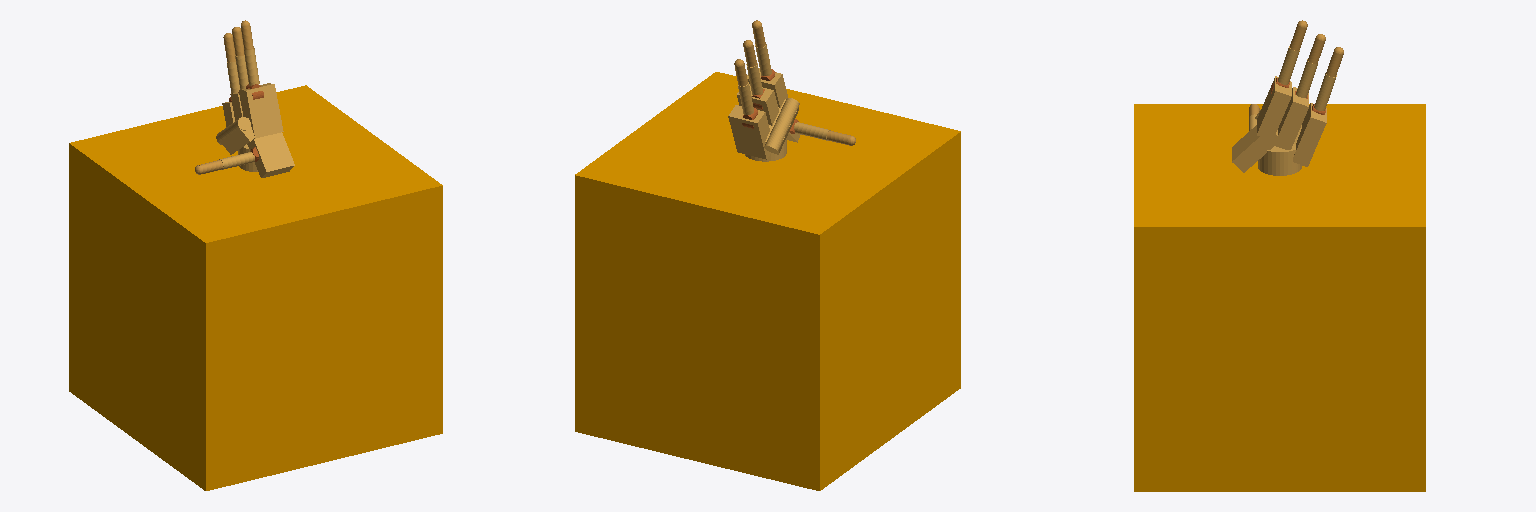
--- Facts derived from the render (not from the file) ---
The picture shows the robot from 3 angles, left to right: view 1: azimuth 30°, elevation 25°; view 2: azimuth 150°, elevation 25°; view 3: azimuth 270°, elevation 25°; orthographic projection.
Model humanoid with 34 links and 33 joints (12 revolute, 21 fixed), rooted at base, posed every joint at zero.
Links seen in each view (by area): view 1: base, right_palm; view 2: base, right_palm; view 3: base, right_palm.
Link boxes in pixels (left/top/right/bottom): base: left=69, top=85, right=442, bottom=490; right_palm: left=216, top=83, right=294, bottom=177; base: left=575, top=72, right=960, bottom=490; right_palm: left=728, top=68, right=800, bottom=161; base: left=1134, top=104, right=1425, bottom=491; right_palm: left=1232, top=76, right=1326, bottom=175.
Bounding box of the posed robot: 0.5 × 0.5 × 0.7732 m (x, y, z).
Geometry: primitives only (box / cylinder / sphere), no mesh files.

The robot description file, URDF, robot "humanoid":
<?xml version="1.0" ?>
<!-- =================================================================================== -->
<!-- |    This document was autogenerated by xacro from /tmp/buildd/sandia-hand-5.1.14/ros/sandia_hand_description/robots/sandia_hand_right_on_box.urdf.xacro | -->
<!-- |    EDITING THIS FILE BY HAND IS NOT RECOMMENDED                                 | -->
<!-- =================================================================================== -->
<robot name="humanoid" xmlns:controller="http://playerstage.sourceforge.net/gazebo/xmlschema/#controller" xmlns:interface="http://playerstage.sourceforge.net/gazebo/xmlschema/#interface" xmlns:sensor="http://playerstage.sourceforge.net/gazebo/xmlschema/#sensor" xmlns:xacro="http://www.ros.org/wiki/xacro">
  <!-- Commenting out urdf with meshes, using simple collision shapes instead -->
  <!--<include filename="$(find sandia_hand_description)/urdf/sandia_hand.urdf.xacro" />-->
  <link name="base">
    <inertial>
      <mass value="0.1"/>
      <origin rpy="0 0 0" xyz="0 0 0.25"/>
      <inertia ixx="0.01" ixy="0" ixz="0" iyy="0.01" iyz="0" izz="0.01"/>
    </inertial>
    <visual>
      <origin rpy="0 0 0" xyz="0 0 0.25"/>
      <geometry>
        <box size="0.5 0.5 0.5"/>
      </geometry>
    </visual>
    <collision>
      <origin rpy="0 0 0" xyz="0 0 0.25"/>
      <geometry>
        <box size="0.5 0.5 0.5"/>
      </geometry>
    </collision>
  </link>
  <link name="right_palm">
    <origin rpy="0 0 0" xyz="0 0 0"/>
    <inertial>
      <mass value="1.303"/>
      <origin xyz="0 0 0"/>
      <!-- solid sphere with 5cm radius -->
      <inertia ixx="0.001303" ixy="0" ixz="0" iyy="0.001303" iyz="0" izz="0.001303"/>
    </inertial>
    <!-- begin simple shape approximation of palm -->
    <collision group="default">
      <origin rpy="0 1.57079632679 -0.9" xyz="0.069 0.016 0.038"/>
      <geometry>
        <cylinder length="0.100" radius="0.013"/>
      </geometry>
    </collision>
    <collision group="other">
      <origin rpy="0.41 0 -0.9" xyz="0.064 0.008 0.021"/>
      <geometry>
        <box size="0.09 .035 .05"/>
      </geometry>
    </collision>
    <collision group="other">
      <origin rpy="0 1.57079632679 0" xyz="0.02 0 -0.005"/>
      <geometry>
        <cylinder length="0.05" radius="0.038"/>
      </geometry>
    </collision>
    <collision group="other">
      <origin rpy="0 0 0.37" xyz="0.11 -0.01 -0.005"/>
      <geometry>
        <box size="0.09 .03 .06"/>
      </geometry>
    </collision>
    <collision group="other">
      <origin rpy="0 0 0.37" xyz="0.09 0.02 -0.005"/>
      <geometry>
        <box size="0.09 .03 .06"/>
      </geometry>
    </collision>
    <collision group="other">
      <origin rpy="0 0 0.37" xyz="0.060 0.05 -0.005"/>
      <geometry>
        <box size="0.09 .03 .06"/>
      </geometry>
    </collision>
    <collision group="other">
      <origin rpy="0 0 0.79" xyz="0.044 -0.04 -0.005"/>
      <geometry>
        <box size="0.09 .03 .06"/>
      </geometry>
    </collision>
    <!--   end simple shape approximation of palm -->
    <!-- begin visual shape approximation of palm -->
    <visual>
      <origin rpy="0 1.57079632679 -0.9" xyz="0.069 0.016 0.038"/>
      <geometry>
        <cylinder length="0.100" radius="0.013"/>
      </geometry>
      <material name="right_sandia_hand_skin">
        <color rgba="0.835 0.655 0.345 1.0"/>
      </material>
    </visual>
    <visual>
      <origin rpy="0.41 0 -0.9" xyz="0.064 0.008 0.021"/>
      <geometry>
        <box size="0.09 .035 .05"/>
      </geometry>
      <material name="right_sandia_hand_skin">
        <color rgba="0.835 0.655 0.345 1.0"/>
      </material>
    </visual>
    <visual>
      <origin rpy="0 1.57079632679 0" xyz="0.02 0 -0.005"/>
      <geometry>
        <cylinder length="0.05" radius="0.038"/>
      </geometry>
      <material name="right_sandia_hand_skin">
        <color rgba="0.835 0.655 0.345 1.0"/>
      </material>
    </visual>
    <visual>
      <origin rpy="0 0 0.37" xyz="0.11 -0.01 -0.005"/>
      <geometry>
        <box size="0.09 .03 .06"/>
      </geometry>
      <material name="right_sandia_hand_skin">
        <color rgba="0.835 0.655 0.345 1.0"/>
      </material>
    </visual>
    <visual>
      <origin rpy="0 0 0.37" xyz="0.09 0.02 -0.005"/>
      <geometry>
        <box size="0.09 .03 .06"/>
      </geometry>
      <material name="right_sandia_hand_skin">
        <color rgba="0.835 0.655 0.345 1.0"/>
      </material>
    </visual>
    <visual>
      <origin rpy="0 0 0.37" xyz="0.060 0.05 -0.005"/>
      <geometry>
        <box size="0.09 .03 .06"/>
      </geometry>
      <material name="right_sandia_hand_skin">
        <color rgba="0.835 0.655 0.345 1.0"/>
      </material>
    </visual>
    <visual>
      <origin rpy="0 0 0.79" xyz="0.044 -0.04 -0.005"/>
      <geometry>
        <box size="0.09 .03 .06"/>
      </geometry>
      <material name="right_sandia_hand_skin">
        <color rgba="0.835 0.655 0.345 1.0"/>
      </material>
    </visual>
    <!--   end visual shape approximation of palm -->
    <!-- begin collision mesh of f2 ->
      <collision group="default">
        <origin xyz="0 0 0" rpy="0 0 0"/>
        <geometry>
          <mesh filename="package://sandia_hand_description/meshes/palm.stl"/>
        </geometry>
      </collision>
      <!-   end collision mesh of f2 -->
    <!-- begin visual mesh of f2    ->
      <visual>
        <origin xyz="0 0 0" rpy="0 0 0"/>
        <geometry>
          <mesh filename="package://sandia_hand_description/meshes/palm.stl"/>
        </geometry>
        <material name="${side}_sandia_hand_skin">
          <color rgba="0.835 0.655 0.345 1.0"/>
        </material>
      </visual>
      <!-   end visual mesh of f2 -->
  </link>
  <joint name="right_sandia_hand_joint" type="fixed">
    <parent link="base"/>
    <child link="right_palm"/>
    <origin rpy="0 -1.57079 0" xyz="0 0 0.5"/>
  </joint>
  <link name="right_f0_base">
    <origin rpy="0 0 0" xyz="0 0 0"/>
    <inertial>
      <!-- total mass is 2.303 kg, palm is about 1.303 kg, distribute the rest into _base -->
      <mass value="0.250"/>
      <!-- (2.303 - 1.303) / 4 -->
      <origin xyz="0 0 0"/>
      <!-- model as sphere with radius of 1cm -->
      <inertia ixx="0.00001" ixy="0" ixz="0" iyy="0.00001" iyz="0" izz="0.00001"/>
    </inertial>
  </link>
  <link name="right_f0_fixed_accel">
    <origin rpy="0 0 0" xyz="0 0 0"/>
    <inertial>
      <mass value="0.01"/>
      <origin xyz="0 0 0"/>
      <inertia ixx="0.000001" ixy="0" ixz="0" iyy="0.000001" iyz="0" izz="0.000001"/>
    </inertial>
  </link>
  <link name="right_f0_0">
    <origin rpy="0 0 0" xyz="0 0 0"/>
    <inertial>
      <mass value="0.106"/>
      <!-- F1 -->
      <origin xyz="0 0 0"/>
      <!-- solid cylinder -->
      <inertia ixx="0.000011925" ixy="0" ixz="0" iyy="0.00011505" iyz="0" izz="0.00011505"/>
    </inertial>
    <!-- begin simple shape approximation of f0 -->
    <collision group="default">
      <origin rpy="0 0 0" xyz="0 0 0.003"/>
      <geometry>
        <cylinder length="0.023" radius="0.015"/>
      </geometry>
    </collision>
    <collision group="other">
      <origin rpy="1.57079632679 0 0" xyz="0.011 0 0.003"/>
      <geometry>
        <cylinder length="0.023" radius="0.01"/>
      </geometry>
    </collision>
    <!--   end simple shape approximation of f0 -->
    <!-- begin visual shape approximation of f0 -->
    <visual>
      <origin rpy="0 0 0" xyz="0 0 0.003"/>
      <geometry>
        <cylinder length="0.023" radius="0.015"/>
      </geometry>
      <material name="right_sandia_hand_skin_suntan">
        <color rgba="0.7 0.4 0.2 1.0"/>
      </material>
    </visual>
    <visual>
      <origin rpy="1.57079632679 0 0" xyz="0.011 0 0.003"/>
      <geometry>
        <cylinder length="0.023" radius="0.01"/>
      </geometry>
      <material name="right_sandia_hand_skin_suntan">
        <color rgba="0.7 0.4 0.2 1.0"/>
      </material>
    </visual>
    <!--   end visual shape approximation of f0 -->
    <!-- begin collision mesh of f0 ->
      <collision group="default">
        <origin xyz="0 0 0" rpy="0 0 0"/>
        <geometry>
          <mesh filename="package://sandia_hand_description/meshes/f0.stl"/>
        </geometry>
      </collision>
      <!-   end collision mesh of f0 -->
    <!-- begin visual mesh of f0 ->
      <visual>
        <origin xyz="0 0 0" rpy="0 0 0"/>
        <geometry>
          <mesh filename="package://sandia_hand_description/meshes/f0.stl"/>
        </geometry>
        <material name="${side}_sandia_hand_skin_suntan">
          <color rgba="0.7 0.4 0.2 1.0"/>
        </material>
      </visual>
      <!-   end visual mesh of f0 -->
  </link>
  <link name="right_f0_1">
    <origin rpy="0 0 0" xyz="0 0 0"/>
    <inertial>
      <mass value="0.033"/>
      <!-- F2 -->
      <origin xyz="0 0 0"/>
      <!-- solid cylinder -->
      <inertia ixx="0.00000165" ixy="0" ixz="0" iyy="0.00001316975" iyz="0" izz="0.00001316975"/>
    </inertial>
    <!-- begin simple shape approximation of f1 -->
    <collision group="default">
      <origin rpy="0 1.57079632679 0" xyz="0.024 0 0"/>
      <geometry>
        <cylinder length="0.067" radius="0.01"/>
      </geometry>
    </collision>
    <!--   end simple shape approximation of f1 -->
    <!-- begin visual shape approximation of f1 -->
    <visual>
      <origin rpy="0 1.57079632679 0" xyz="0.024 0 0"/>
      <geometry>
        <cylinder length="0.067" radius="0.01"/>
      </geometry>
      <material name="right_sandia_hand_skin">
        <color rgba="0.835 0.655 0.345 1.0"/>
      </material>
    </visual>
    <!--   end visual shape approximation of f1 -->
    <!-- begin collision mesh of f1 ->
      <collision group="default">
        <origin xyz="0 0 0" rpy="0 0 0"/>
        <geometry>
          <mesh filename="package://sandia_hand_description/meshes/f1.stl"/>
        </geometry>
      </collision>
      <!-   end collision mesh of f1 -->
    <!-- begin visual mesh of f1 ->
      <visual>
        <origin xyz="0 0 0" rpy="0 0 0"/>
        <geometry>
          <mesh filename="package://sandia_hand_description/meshes/f1.stl"/>
        </geometry>
        <material name="${side}_sandia_hand_skin">
          <color rgba="0.835 0.655 0.345 1.0"/>
        </material>
      </visual>
      <!-   end visual mesh of f1 -->
  </link>
  <link name="right_f0_1_accel">
    <origin rpy="0 0 0" xyz="0 0 0"/>
    <inertial>
      <mass value="0.01"/>
      <origin xyz="0 0 0"/>
      <inertia ixx="0.000001" ixy="0" ixz="0" iyy="0.000001" iyz="0" izz="0.000001"/>
    </inertial>
  </link>
  <link name="right_f0_2">
    <origin rpy="0 0 0" xyz="0 0 0"/>
    <inertial>
      <mass value="0.033"/>
      <!-- F3 -->
      <origin xyz="0 0 0"/>
      <!-- solid cylinder -->
      <inertia ixx="0.0000013365" ixy="0" ixz="0" iyy="0.000009603" iyz="0" izz="0.000009603"/>
    </inertial>
    <!-- begin simple shape approximation of f2 -->
    <collision group="default">
      <origin rpy="0 1.57079632679 0" xyz="0.024 0 0"/>
      <geometry>
        <cylinder length="0.057" radius="0.009"/>
      </geometry>
    </collision>
    <collision group="other">
      <origin rpy="0 0 0" xyz="0.052 0 0"/>
      <geometry>
        <sphere radius="0.009"/>
      </geometry>
    </collision>
    <!--   end simple shape approximation of f2 -->
    <!-- begin visual shape approximation of f2 -->
    <visual>
      <origin rpy="0 1.57079632679 0" xyz="0.024 0 0"/>
      <geometry>
        <cylinder length="0.057" radius="0.009"/>
      </geometry>
      <material name="right_sandia_hand_skin_suntan">
        <color rgba="0.8 0.6 0.3 1.0"/>
      </material>
    </visual>
    <visual>
      <origin rpy="0 0 0" xyz="0.052 0 0"/>
      <geometry>
        <sphere radius="0.009"/>
      </geometry>
      <material name="right_sandia_hand_skin_suntan">
        <color rgba="0.8 0.6 0.3 1.0"/>
      </material>
    </visual>
    <!-- begin collision mesh of f2    ->
      <collision group="default">
        <origin xyz="0 0 0" rpy="0 0 0"/>
        <geometry>
          <mesh filename="package://sandia_hand_description/meshes/f2.stl"/>
        </geometry>
      </collision>
      <!-   end collision mesh of f2 -->
    <!-- begin visual mesh of f2    ->
      <visual>
        <origin xyz="0 0 0" rpy="0 0 0"/>
        <geometry>
          <mesh filename="package://sandia_hand_description/meshes/f2.stl"/>
        </geometry>
        <material name="${side}_sandia_hand_skin_suntan">
          <color rgba="0.8 0.6 0.3 1.0"/>
        </material>
      </visual>
      <!-   end visual mesh of f2 -->
  </link>
  <link name="right_f0_2_accel">
    <origin rpy="0 0 0" xyz="0 0 0"/>
    <inertial>
      <mass value="0.01"/>
      <origin xyz="0 0 0"/>
      <inertia ixx="0.000001" ixy="0" ixz="0" iyy="0.000001" iyz="0" izz="0.000001"/>
    </inertial>
  </link>
  <joint name="right_f0_base" type="fixed">
    <parent link="right_palm"/>
    <child link="right_f0_base"/>
    <origin rpy="0 0 0.3" xyz="0.14 0.0 0"/>
  </joint>
  <joint name="right_f0_j0" type="revolute">
    <axis xyz="0 0 1"/>
    <parent link="right_f0_base"/>
    <child link="right_f0_0"/>
    <limit effort="11" lower="-1.57079632679" upper="1.57079632679" velocity="-1"/>
    <safety_controller k_position="1000.0" k_velocity="1000.0" soft_lower_limit="-11.57079" soft_upper_limit="11.57079"/>
    <dynamics damping="1.0"/>
    <origin rpy="0 0 0" xyz="0 0 0"/>
  </joint>
  <joint name="right_f0_j1" type="revolute">
    <axis xyz="0 0 1"/>
    <parent link="right_f0_0"/>
    <child link="right_f0_1"/>
    <limit effort="28" lower="-1.57079632679" upper="1.57079632679" velocity="-1"/>
    <safety_controller k_position="1000.0" k_velocity="1000.0" soft_lower_limit="-11.57079" soft_upper_limit="11.57079"/>
    <dynamics damping="1.0"/>
    <origin rpy="1.57079632679 0 0" xyz="0.028 0 0"/>
  </joint>
  <joint name="right_f0_j2" type="revolute">
    <axis xyz="0 0 1"/>
    <parent link="right_f0_1"/>
    <child link="right_f0_2"/>
    <origin rpy="0 0 0" xyz="0.05 0 0"/>
    <safety_controller k_position="1000.0" k_velocity="1000.0" soft_lower_limit="-11.57079" soft_upper_limit="11.57079"/>
    <dynamics damping="1.0"/>
    <limit effort="28" lower="-1.57079632679" upper="1.57079632679" velocity="-1"/>
  </joint>
  <joint name="right_f0_fixed_accel" type="fixed">
    <parent link="right_f0_base"/>
    <child link="right_f0_fixed_accel"/>
    <origin rpy="0 0 0" xyz="-0.05 0 0"/>
  </joint>
  <joint name="right_f0_1_accel" type="fixed">
    <parent link="right_f0_1"/>
    <child link="right_f0_1_accel"/>
    <origin rpy="-1.57079632679 0 0" xyz="0.03 0 0"/>
  </joint>
  <joint name="right_f0_2_accel" type="fixed">
    <parent link="right_f0_2"/>
    <child link="right_f0_2_accel"/>
    <origin rpy="-1.57079632679 0 0" xyz="0.04 0 0"/>
  </joint>
  <transmission name="right_f0_j0" type="pr2_mechanism_model/SimpleTransmission">
    <joint name="right_f0_j0"/>
    <actuator name="right_f0_j0_motor"/>
    <mechanicalReduction>1</mechanicalReduction>
  </transmission>
  <transmission name="right_f0_j1" type="pr2_mechanism_model/SimpleTransmission">
    <joint name="right_f0_j1"/>
    <actuator name="right_f0_j1_motor"/>
    <mechanicalReduction>1</mechanicalReduction>
  </transmission>
  <transmission name="right_f0_j2" type="pr2_mechanism_model/SimpleTransmission">
    <joint name="right_f0_j2"/>
    <actuator name="right_f0_j2_motor"/>
    <mechanicalReduction>1</mechanicalReduction>
  </transmission>
  <gazebo reference="right_f0_base">
    <mu1>0.9</mu1>
    <mu2>0.9</mu2>
    <kp>1000000.0</kp>
    <kd>1.0</kd>
    <maxVel>0.1</maxVel>
    <minDepth>0.001</minDepth>
    <material>Gazebo/FlatBlack</material>
  </gazebo>
  <gazebo reference="right_f0_0">
    <mu1>0.9</mu1>
    <mu2>0.9</mu2>
    <kp>1000000.0</kp>
    <kd>1.0</kd>
    <maxVel>0.1</maxVel>
    <minDepth>0.003</minDepth>
    <maxContacts>1</maxContacts>
    <material>Gazebo/FlatBlack</material>
  </gazebo>
  <gazebo reference="right_f0_1">
    <mu1>0.9</mu1>
    <mu2>0.9</mu2>
    <kp>1000000.0</kp>
    <kd>1.0</kd>
    <maxVel>0.1</maxVel>
    <minDepth>0.003</minDepth>
    <maxContacts>1</maxContacts>
    <material>Gazebo/FlatBlack</material>
  </gazebo>
  <gazebo reference="right_f0_2">
    <mu1>0.9</mu1>
    <mu2>0.9</mu2>
    <kp>1000000.0</kp>
    <kd>1.0</kd>
    <maxVel>0.1</maxVel>
    <minDepth>0.003</minDepth>
    <maxContacts>1</maxContacts>
    <material>Gazebo/FlatBlack</material>
  </gazebo>
  <gazebo reference="right_f0_j0">
    <cfmDamping>1</cfmDamping>
  </gazebo>
  <gazebo reference="right_f0_j1">
    <cfmDamping>1</cfmDamping>
  </gazebo>
  <gazebo reference="right_f0_j2">
    <cfmDamping>1</cfmDamping>
  </gazebo>
  <link name="right_f1_base">
    <origin rpy="0 0 0" xyz="0 0 0"/>
    <inertial>
      <!-- total mass is 2.303 kg, palm is about 1.303 kg, distribute the rest into _base -->
      <mass value="0.250"/>
      <!-- (2.303 - 1.303) / 4 -->
      <origin xyz="0 0 0"/>
      <!-- model as sphere with radius of 1cm -->
      <inertia ixx="0.00001" ixy="0" ixz="0" iyy="0.00001" iyz="0" izz="0.00001"/>
    </inertial>
  </link>
  <link name="right_f1_fixed_accel">
    <origin rpy="0 0 0" xyz="0 0 0"/>
    <inertial>
      <mass value="0.01"/>
      <origin xyz="0 0 0"/>
      <inertia ixx="0.000001" ixy="0" ixz="0" iyy="0.000001" iyz="0" izz="0.000001"/>
    </inertial>
  </link>
  <link name="right_f1_0">
    <origin rpy="0 0 0" xyz="0 0 0"/>
    <inertial>
      <mass value="0.106"/>
      <!-- F1 -->
      <origin xyz="0 0 0"/>
      <!-- solid cylinder -->
      <inertia ixx="0.000011925" ixy="0" ixz="0" iyy="0.00011505" iyz="0" izz="0.00011505"/>
    </inertial>
    <!-- begin simple shape approximation of f0 -->
    <collision group="default">
      <origin rpy="0 0 0" xyz="0 0 0.003"/>
      <geometry>
        <cylinder length="0.023" radius="0.015"/>
      </geometry>
    </collision>
    <collision group="other">
      <origin rpy="1.57079632679 0 0" xyz="0.011 0 0.003"/>
      <geometry>
        <cylinder length="0.023" radius="0.01"/>
      </geometry>
    </collision>
    <!--   end simple shape approximation of f0 -->
    <!-- begin visual shape approximation of f0 -->
    <visual>
      <origin rpy="0 0 0" xyz="0 0 0.003"/>
      <geometry>
        <cylinder length="0.023" radius="0.015"/>
      </geometry>
      <material name="right_sandia_hand_skin_suntan">
        <color rgba="0.7 0.4 0.2 1.0"/>
      </material>
    </visual>
    <visual>
      <origin rpy="1.57079632679 0 0" xyz="0.011 0 0.003"/>
      <geometry>
        <cylinder length="0.023" radius="0.01"/>
      </geometry>
      <material name="right_sandia_hand_skin_suntan">
        <color rgba="0.7 0.4 0.2 1.0"/>
      </material>
    </visual>
    <!--   end visual shape approximation of f0 -->
    <!-- begin collision mesh of f0 ->
      <collision group="default">
        <origin xyz="0 0 0" rpy="0 0 0"/>
        <geometry>
          <mesh filename="package://sandia_hand_description/meshes/f0.stl"/>
        </geometry>
      </collision>
      <!-   end collision mesh of f0 -->
    <!-- begin visual mesh of f0 ->
      <visual>
        <origin xyz="0 0 0" rpy="0 0 0"/>
        <geometry>
          <mesh filename="package://sandia_hand_description/meshes/f0.stl"/>
        </geometry>
        <material name="${side}_sandia_hand_skin_suntan">
          <color rgba="0.7 0.4 0.2 1.0"/>
        </material>
      </visual>
      <!-   end visual mesh of f0 -->
  </link>
  <link name="right_f1_1">
    <origin rpy="0 0 0" xyz="0 0 0"/>
    <inertial>
      <mass value="0.033"/>
      <!-- F2 -->
      <origin xyz="0 0 0"/>
      <!-- solid cylinder -->
      <inertia ixx="0.00000165" ixy="0" ixz="0" iyy="0.00001316975" iyz="0" izz="0.00001316975"/>
    </inertial>
    <!-- begin simple shape approximation of f1 -->
    <collision group="default">
      <origin rpy="0 1.57079632679 0" xyz="0.024 0 0"/>
      <geometry>
        <cylinder length="0.067" radius="0.01"/>
      </geometry>
    </collision>
    <!--   end simple shape approximation of f1 -->
    <!-- begin visual shape approximation of f1 -->
    <visual>
      <origin rpy="0 1.57079632679 0" xyz="0.024 0 0"/>
      <geometry>
        <cylinder length="0.067" radius="0.01"/>
      </geometry>
      <material name="right_sandia_hand_skin">
        <color rgba="0.835 0.655 0.345 1.0"/>
      </material>
    </visual>
    <!--   end visual shape approximation of f1 -->
    <!-- begin collision mesh of f1 ->
      <collision group="default">
        <origin xyz="0 0 0" rpy="0 0 0"/>
        <geometry>
          <mesh filename="package://sandia_hand_description/meshes/f1.stl"/>
        </geometry>
      </collision>
      <!-   end collision mesh of f1 -->
    <!-- begin visual mesh of f1 ->
      <visual>
        <origin xyz="0 0 0" rpy="0 0 0"/>
        <geometry>
          <mesh filename="package://sandia_hand_description/meshes/f1.stl"/>
        </geometry>
        <material name="${side}_sandia_hand_skin">
          <color rgba="0.835 0.655 0.345 1.0"/>
        </material>
      </visual>
      <!-   end visual mesh of f1 -->
  </link>
  <link name="right_f1_1_accel">
    <origin rpy="0 0 0" xyz="0 0 0"/>
    <inertial>
      <mass value="0.01"/>
      <origin xyz="0 0 0"/>
      <inertia ixx="0.000001" ixy="0" ixz="0" iyy="0.000001" iyz="0" izz="0.000001"/>
    </inertial>
  </link>
  <link name="right_f1_2">
    <origin rpy="0 0 0" xyz="0 0 0"/>
    <inertial>
      <mass value="0.033"/>
      <!-- F3 -->
      <origin xyz="0 0 0"/>
      <!-- solid cylinder -->
      <inertia ixx="0.0000013365" ixy="0" ixz="0" iyy="0.000009603" iyz="0" izz="0.000009603"/>
    </inertial>
    <!-- begin simple shape approximation of f2 -->
    <collision group="default">
      <origin rpy="0 1.57079632679 0" xyz="0.024 0 0"/>
      <geometry>
        <cylinder length="0.057" radius="0.009"/>
      </geometry>
    </collision>
    <collision group="other">
      <origin rpy="0 0 0" xyz="0.052 0 0"/>
      <geometry>
        <sphere radius="0.009"/>
      </geometry>
    </collision>
    <!--   end simple shape approximation of f2 -->
    <!-- begin visual shape approximation of f2 -->
    <visual>
      <origin rpy="0 1.57079632679 0" xyz="0.024 0 0"/>
      <geometry>
        <cylinder length="0.057" radius="0.009"/>
      </geometry>
      <material name="right_sandia_hand_skin_suntan">
        <color rgba="0.8 0.6 0.3 1.0"/>
      </material>
    </visual>
    <visual>
      <origin rpy="0 0 0" xyz="0.052 0 0"/>
      <geometry>
        <sphere radius="0.009"/>
      </geometry>
      <material name="right_sandia_hand_skin_suntan">
        <color rgba="0.8 0.6 0.3 1.0"/>
      </material>
    </visual>
    <!-- begin collision mesh of f2    ->
      <collision group="default">
        <origin xyz="0 0 0" rpy="0 0 0"/>
        <geometry>
          <mesh filename="package://sandia_hand_description/meshes/f2.stl"/>
        </geometry>
      </collision>
      <!-   end collision mesh of f2 -->
    <!-- begin visual mesh of f2    ->
      <visual>
        <origin xyz="0 0 0" rpy="0 0 0"/>
        <geometry>
          <mesh filename="package://sandia_hand_description/meshes/f2.stl"/>
        </geometry>
        <material name="${side}_sandia_hand_skin_suntan">
          <color rgba="0.8 0.6 0.3 1.0"/>
        </material>
      </visual>
      <!-   end visual mesh of f2 -->
  </link>
  <link name="right_f1_2_accel">
    <origin rpy="0 0 0" xyz="0 0 0"/>
    <inertial>
      <mass value="0.01"/>
      <origin xyz="0 0 0"/>
      <inertia ixx="0.000001" ixy="0" ixz="0" iyy="0.000001" iyz="0" izz="0.000001"/>
    </inertial>
  </link>
  <joint name="right_f1_base" type="fixed">
    <parent link="right_palm"/>
    <child link="right_f1_base"/>
    <origin rpy="0 0 0.3" xyz="0.115 0.03122 0"/>
  </joint>
  <joint name="right_f1_j0" type="revolute">
    <axis xyz="0 0 1"/>
    <parent link="right_f1_base"/>
    <child link="right_f1_0"/>
    <limit effort="11" lower="-1.57079632679" upper="1.57079632679" velocity="-1"/>
    <safety_controller k_position="1000.0" k_velocity="1000.0" soft_lower_limit="-11.57079" soft_upper_limit="11.57079"/>
    <dynamics damping="1.0"/>
    <origin rpy="0 0 0" xyz="0 0 0"/>
  </joint>
  <joint name="right_f1_j1" type="revolute">
    <axis xyz="0 0 1"/>
    <parent link="right_f1_0"/>
    <child link="right_f1_1"/>
    <limit effort="28" lower="-1.57079632679" upper="1.57079632679" velocity="-1"/>
    <safety_controller k_position="1000.0" k_velocity="1000.0" soft_lower_limit="-11.57079" soft_upper_limit="11.57079"/>
    <dynamics damping="1.0"/>
    <origin rpy="1.57079632679 0 0" xyz="0.028 0 0"/>
  </joint>
  <joint name="right_f1_j2" type="revolute">
    <axis xyz="0 0 1"/>
    <parent link="right_f1_1"/>
    <child link="right_f1_2"/>
    <origin rpy="0 0 0" xyz="0.05 0 0"/>
    <safety_controller k_position="1000.0" k_velocity="1000.0" soft_lower_limit="-11.57079" soft_upper_limit="11.57079"/>
    <dynamics damping="1.0"/>
    <limit effort="28" lower="-1.57079632679" upper="1.57079632679" velocity="-1"/>
  </joint>
  <joint name="right_f1_fixed_accel" type="fixed">
    <parent link="right_f1_base"/>
    <child link="right_f1_fixed_accel"/>
    <origin rpy="0 0 0" xyz="-0.05 0 0"/>
  </joint>
  <joint name="right_f1_1_accel" type="fixed">
    <parent link="right_f1_1"/>
    <child link="right_f1_1_accel"/>
    <origin rpy="-1.57079632679 0 0" xyz="0.03 0 0"/>
  </joint>
  <joint name="right_f1_2_accel" type="fixed">
    <parent link="right_f1_2"/>
    <child link="right_f1_2_accel"/>
    <origin rpy="-1.57079632679 0 0" xyz="0.04 0 0"/>
  </joint>
  <transmission name="right_f1_j0" type="pr2_mechanism_model/SimpleTransmission">
    <joint name="right_f1_j0"/>
    <actuator name="right_f1_j0_motor"/>
    <mechanicalReduction>1</mechanicalReduction>
  </transmission>
  <transmission name="right_f1_j1" type="pr2_mechanism_model/SimpleTransmission">
    <joint name="right_f1_j1"/>
    <actuator name="right_f1_j1_motor"/>
    <mechanicalReduction>1</mechanicalReduction>
  </transmission>
  <transmission name="right_f1_j2" type="pr2_mechanism_model/SimpleTransmission">
    <joint name="right_f1_j2"/>
    <actuator name="right_f1_j2_motor"/>
    <mechanicalReduction>1</mechanicalReduction>
  </transmission>
  <gazebo reference="right_f1_base">
    <mu1>0.9</mu1>
    <mu2>0.9</mu2>
    <kp>1000000.0</kp>
    <kd>1.0</kd>
    <maxVel>0.1</maxVel>
    <minDepth>0.001</minDepth>
    <material>Gazebo/FlatBlack</material>
  </gazebo>
  <gazebo reference="right_f1_0">
    <mu1>0.9</mu1>
    <mu2>0.9</mu2>
    <kp>1000000.0</kp>
    <kd>1.0</kd>
    <maxVel>0.1</maxVel>
    <minDepth>0.003</minDepth>
    <maxContacts>1</maxContacts>
    <material>Gazebo/FlatBlack</material>
  </gazebo>
  <gazebo reference="right_f1_1">
    <mu1>0.9</mu1>
    <mu2>0.9</mu2>
    <kp>1000000.0</kp>
    <kd>1.0</kd>
    <maxVel>0.1</maxVel>
    <minDepth>0.003</minDepth>
    <maxContacts>1</maxContacts>
    <material>Gazebo/FlatBlack</material>
  </gazebo>
  <gazebo reference="right_f1_2">
    <mu1>0.9</mu1>
    <mu2>0.9</mu2>
    <kp>1000000.0</kp>
    <kd>1.0</kd>
    <maxVel>0.1</maxVel>
    <minDepth>0.003</minDepth>
    <maxContacts>1</maxContacts>
    <material>Gazebo/FlatBlack</material>
  </gazebo>
  <gazebo reference="right_f1_j0">
    <cfmDamping>1</cfmDamping>
  </gazebo>
  <gazebo reference="right_f1_j1">
    <cfmDamping>1</cfmDamping>
  </gazebo>
  <gazebo reference="right_f1_j2">
    <cfmDamping>1</cfmDamping>
  </gazebo>
  <link name="right_f2_base">
    <origin rpy="0 0 0" xyz="0 0 0"/>
    <inertial>
      <!-- total mass is 2.303 kg, palm is about 1.303 kg, distribute the rest into _base -->
      <mass value="0.250"/>
      <!-- (2.303 - 1.303) / 4 -->
      <origin xyz="0 0 0"/>
      <!-- model as sphere with radius of 1cm -->
      <inertia ixx="0.00001" ixy="0" ixz="0" iyy="0.00001" iyz="0" izz="0.00001"/>
    </inertial>
  </link>
  <link name="right_f2_fixed_accel">
    <origin rpy="0 0 0" xyz="0 0 0"/>
    <inertial>
      <mass value="0.01"/>
      <origin xyz="0 0 0"/>
      <inertia ixx="0.000001" ixy="0" ixz="0" iyy="0.000001" iyz="0" izz="0.000001"/>
    </inertial>
  </link>
  <link name="right_f2_0">
    <origin rpy="0 0 0" xyz="0 0 0"/>
    <inertial>
      <mass value="0.106"/>
      <!-- F1 -->
      <origin xyz="0 0 0"/>
      <!-- solid cylinder -->
      <inertia ixx="0.000011925" ixy="0" ixz="0" iyy="0.00011505" iyz="0" izz="0.00011505"/>
    </inertial>
    <!-- begin simple shape approximation of f0 -->
    <collision group="default">
      <origin rpy="0 0 0" xyz="0 0 0.003"/>
      <geometry>
        <cylinder length="0.023" radius="0.015"/>
      </geometry>
    </collision>
    <collision group="other">
      <origin rpy="1.57079632679 0 0" xyz="0.011 0 0.003"/>
      <geometry>
        <cylinder length="0.023" radius="0.01"/>
      </geometry>
    </collision>
    <!--   end simple shape approximation of f0 -->
    <!-- begin visual shape approximation of f0 -->
    <visual>
      <origin rpy="0 0 0" xyz="0 0 0.003"/>
      <geometry>
        <cylinder length="0.023" radius="0.015"/>
      </geometry>
      <material name="right_sandia_hand_skin_suntan">
        <color rgba="0.7 0.4 0.2 1.0"/>
      </material>
    </visual>
    <visual>
      <origin rpy="1.57079632679 0 0" xyz="0.011 0 0.003"/>
      <geometry>
        <cylinder length="0.023" radius="0.01"/>
      </geometry>
      <material name="right_sandia_hand_skin_suntan">
        <color rgba="0.7 0.4 0.2 1.0"/>
      </material>
    </visual>
    <!--   end visual shape approximation of f0 -->
    <!-- begin collision mesh of f0 ->
      <collision group="default">
        <origin xyz="0 0 0" rpy="0 0 0"/>
        <geometry>
          <mesh filename="package://sandia_hand_description/meshes/f0.stl"/>
        </geometry>
      </collision>
      <!-   end collision mesh of f0 -->
    <!-- begin visual mesh of f0 ->
      <visual>
        <origin xyz="0 0 0" rpy="0 0 0"/>
        <geometry>
          <mesh filename="package://sandia_hand_description/meshes/f0.stl"/>
        </geometry>
        <material name="${side}_sandia_hand_skin_suntan">
          <color rgba="0.7 0.4 0.2 1.0"/>
        </material>
      </visual>
      <!-   end visual mesh of f0 -->
  </link>
  <link name="right_f2_1">
    <origin rpy="0 0 0" xyz="0 0 0"/>
    <inertial>
      <mass value="0.033"/>
      <!-- F2 -->
      <origin xyz="0 0 0"/>
      <!-- solid cylinder -->
      <inertia ixx="0.00000165" ixy="0" ixz="0" iyy="0.00001316975" iyz="0" izz="0.00001316975"/>
    </inertial>
    <!-- begin simple shape approximation of f1 -->
    <collision group="default">
      <origin rpy="0 1.57079632679 0" xyz="0.024 0 0"/>
      <geometry>
        <cylinder length="0.067" radius="0.01"/>
      </geometry>
    </collision>
    <!--   end simple shape approximation of f1 -->
    <!-- begin visual shape approximation of f1 -->
    <visual>
      <origin rpy="0 1.57079632679 0" xyz="0.024 0 0"/>
      <geometry>
        <cylinder length="0.067" radius="0.01"/>
      </geometry>
      <material name="right_sandia_hand_skin">
        <color rgba="0.835 0.655 0.345 1.0"/>
      </material>
    </visual>
    <!--   end visual shape approximation of f1 -->
    <!-- begin collision mesh of f1 ->
      <collision group="default">
        <origin xyz="0 0 0" rpy="0 0 0"/>
        <geometry>
          <mesh filename="package://sandia_hand_description/meshes/f1.stl"/>
        </geometry>
      </collision>
      <!-   end collision mesh of f1 -->
    <!-- begin visual mesh of f1 ->
      <visual>
        <origin xyz="0 0 0" rpy="0 0 0"/>
        <geometry>
          <mesh filename="package://sandia_hand_description/meshes/f1.stl"/>
        </geometry>
        <material name="${side}_sandia_hand_skin">
          <color rgba="0.835 0.655 0.345 1.0"/>
        </material>
      </visual>
      <!-   end visual mesh of f1 -->
  </link>
  <link name="right_f2_1_accel">
    <origin rpy="0 0 0" xyz="0 0 0"/>
    <inertial>
      <mass value="0.01"/>
      <origin xyz="0 0 0"/>
      <inertia ixx="0.000001" ixy="0" ixz="0" iyy="0.000001" iyz="0" izz="0.000001"/>
    </inertial>
  </link>
  <link name="right_f2_2">
    <origin rpy="0 0 0" xyz="0 0 0"/>
    <inertial>
      <mass value="0.033"/>
      <!-- F3 -->
      <origin xyz="0 0 0"/>
      <!-- solid cylinder -->
      <inertia ixx="0.0000013365" ixy="0" ixz="0" iyy="0.000009603" iyz="0" izz="0.000009603"/>
    </inertial>
    <!-- begin simple shape approximation of f2 -->
    <collision group="default">
      <origin rpy="0 1.57079632679 0" xyz="0.024 0 0"/>
      <geometry>
        <cylinder length="0.057" radius="0.009"/>
      </geometry>
    </collision>
    <collision group="other">
      <origin rpy="0 0 0" xyz="0.052 0 0"/>
      <geometry>
        <sphere radius="0.009"/>
      </geometry>
    </collision>
    <!--   end simple shape approximation of f2 -->
    <!-- begin visual shape approximation of f2 -->
    <visual>
      <origin rpy="0 1.57079632679 0" xyz="0.024 0 0"/>
      <geometry>
        <cylinder length="0.057" radius="0.009"/>
      </geometry>
      <material name="right_sandia_hand_skin_suntan">
        <color rgba="0.8 0.6 0.3 1.0"/>
      </material>
    </visual>
    <visual>
      <origin rpy="0 0 0" xyz="0.052 0 0"/>
      <geometry>
        <sphere radius="0.009"/>
      </geometry>
      <material name="right_sandia_hand_skin_suntan">
        <color rgba="0.8 0.6 0.3 1.0"/>
      </material>
    </visual>
    <!-- begin collision mesh of f2    ->
      <collision group="default">
        <origin xyz="0 0 0" rpy="0 0 0"/>
        <geometry>
          <mesh filename="package://sandia_hand_description/meshes/f2.stl"/>
        </geometry>
      </collision>
      <!-   end collision mesh of f2 -->
    <!-- begin visual mesh of f2    ->
      <visual>
        <origin xyz="0 0 0" rpy="0 0 0"/>
        <geometry>
          <mesh filename="package://sandia_hand_description/meshes/f2.stl"/>
        </geometry>
        <material name="${side}_sandia_hand_skin_suntan">
          <color rgba="0.8 0.6 0.3 1.0"/>
        </material>
      </visual>
      <!-   end visual mesh of f2 -->
  </link>
  <link name="right_f2_2_accel">
    <origin rpy="0 0 0" xyz="0 0 0"/>
    <inertial>
      <mass value="0.01"/>
      <origin xyz="0 0 0"/>
      <inertia ixx="0.000001" ixy="0" ixz="0" iyy="0.000001" iyz="0" izz="0.000001"/>
    </inertial>
  </link>
  <joint name="right_f2_base" type="fixed">
    <parent link="right_palm"/>
    <child link="right_f2_base"/>
    <origin rpy="0 0 0.3" xyz="0.09 0.06245 0"/>
  </joint>
  <joint name="right_f2_j0" type="revolute">
    <axis xyz="0 0 1"/>
    <parent link="right_f2_base"/>
    <child link="right_f2_0"/>
    <limit effort="11" lower="-1.57079632679" upper="1.57079632679" velocity="-1"/>
    <safety_controller k_position="1000.0" k_velocity="1000.0" soft_lower_limit="-11.57079" soft_upper_limit="11.57079"/>
    <dynamics damping="1.0"/>
    <origin rpy="0 0 0" xyz="0 0 0"/>
  </joint>
  <joint name="right_f2_j1" type="revolute">
    <axis xyz="0 0 1"/>
    <parent link="right_f2_0"/>
    <child link="right_f2_1"/>
    <limit effort="28" lower="-1.57079632679" upper="1.57079632679" velocity="-1"/>
    <safety_controller k_position="1000.0" k_velocity="1000.0" soft_lower_limit="-11.57079" soft_upper_limit="11.57079"/>
    <dynamics damping="1.0"/>
    <origin rpy="1.57079632679 0 0" xyz="0.028 0 0"/>
  </joint>
  <joint name="right_f2_j2" type="revolute">
    <axis xyz="0 0 1"/>
    <parent link="right_f2_1"/>
    <child link="right_f2_2"/>
    <origin rpy="0 0 0" xyz="0.05 0 0"/>
    <safety_controller k_position="1000.0" k_velocity="1000.0" soft_lower_limit="-11.57079" soft_upper_limit="11.57079"/>
    <dynamics damping="1.0"/>
    <limit effort="28" lower="-1.57079632679" upper="1.57079632679" velocity="-1"/>
  </joint>
  <joint name="right_f2_fixed_accel" type="fixed">
    <parent link="right_f2_base"/>
    <child link="right_f2_fixed_accel"/>
    <origin rpy="0 0 0" xyz="-0.05 0 0"/>
  </joint>
  <joint name="right_f2_1_accel" type="fixed">
    <parent link="right_f2_1"/>
    <child link="right_f2_1_accel"/>
    <origin rpy="-1.57079632679 0 0" xyz="0.03 0 0"/>
  </joint>
  <joint name="right_f2_2_accel" type="fixed">
    <parent link="right_f2_2"/>
    <child link="right_f2_2_accel"/>
    <origin rpy="-1.57079632679 0 0" xyz="0.04 0 0"/>
  </joint>
  <transmission name="right_f2_j0" type="pr2_mechanism_model/SimpleTransmission">
    <joint name="right_f2_j0"/>
    <actuator name="right_f2_j0_motor"/>
    <mechanicalReduction>1</mechanicalReduction>
  </transmission>
  <transmission name="right_f2_j1" type="pr2_mechanism_model/SimpleTransmission">
    <joint name="right_f2_j1"/>
    <actuator name="right_f2_j1_motor"/>
    <mechanicalReduction>1</mechanicalReduction>
  </transmission>
  <transmission name="right_f2_j2" type="pr2_mechanism_model/SimpleTransmission">
    <joint name="right_f2_j2"/>
    <actuator name="right_f2_j2_motor"/>
    <mechanicalReduction>1</mechanicalReduction>
  </transmission>
  <gazebo reference="right_f2_base">
    <mu1>0.9</mu1>
    <mu2>0.9</mu2>
    <kp>1000000.0</kp>
    <kd>1.0</kd>
    <maxVel>0.1</maxVel>
    <minDepth>0.001</minDepth>
    <material>Gazebo/FlatBlack</material>
  </gazebo>
  <gazebo reference="right_f2_0">
    <mu1>0.9</mu1>
    <mu2>0.9</mu2>
    <kp>1000000.0</kp>
    <kd>1.0</kd>
    <maxVel>0.1</maxVel>
    <minDepth>0.003</minDepth>
    <maxContacts>1</maxContacts>
    <material>Gazebo/FlatBlack</material>
  </gazebo>
  <gazebo reference="right_f2_1">
    <mu1>0.9</mu1>
    <mu2>0.9</mu2>
    <kp>1000000.0</kp>
    <kd>1.0</kd>
    <maxVel>0.1</maxVel>
    <minDepth>0.003</minDepth>
    <maxContacts>1</maxContacts>
    <material>Gazebo/FlatBlack</material>
  </gazebo>
  <gazebo reference="right_f2_2">
    <mu1>0.9</mu1>
    <mu2>0.9</mu2>
    <kp>1000000.0</kp>
    <kd>1.0</kd>
    <maxVel>0.1</maxVel>
    <minDepth>0.003</minDepth>
    <maxContacts>1</maxContacts>
    <material>Gazebo/FlatBlack</material>
  </gazebo>
  <gazebo reference="right_f2_j0">
    <cfmDamping>1</cfmDamping>
  </gazebo>
  <gazebo reference="right_f2_j1">
    <cfmDamping>1</cfmDamping>
  </gazebo>
  <gazebo reference="right_f2_j2">
    <cfmDamping>1</cfmDamping>
  </gazebo>
  <link name="right_f3_base">
    <origin rpy="0 0 0" xyz="0 0 0"/>
    <inertial>
      <!-- total mass is 2.303 kg, palm is about 1.303 kg, distribute the rest into _base -->
      <mass value="0.250"/>
      <!-- (2.303 - 1.303) / 4 -->
      <origin xyz="0 0 0"/>
      <!-- model as sphere with radius of 1cm -->
      <inertia ixx="0.00001" ixy="0" ixz="0" iyy="0.00001" iyz="0" izz="0.00001"/>
    </inertial>
  </link>
  <link name="right_f3_fixed_accel">
    <origin rpy="0 0 0" xyz="0 0 0"/>
    <inertial>
      <mass value="0.01"/>
      <origin xyz="0 0 0"/>
      <inertia ixx="0.000001" ixy="0" ixz="0" iyy="0.000001" iyz="0" izz="0.000001"/>
    </inertial>
  </link>
  <link name="right_f3_0">
    <origin rpy="0 0 0" xyz="0 0 0"/>
    <inertial>
      <mass value="0.106"/>
      <!-- F1 -->
      <origin xyz="0 0 0"/>
      <!-- solid cylinder -->
      <inertia ixx="0.000011925" ixy="0" ixz="0" iyy="0.00011505" iyz="0" izz="0.00011505"/>
    </inertial>
    <!-- begin simple shape approximation of f0 -->
    <collision group="default">
      <origin rpy="0 0 0" xyz="0 0 0.003"/>
      <geometry>
        <cylinder length="0.023" radius="0.015"/>
      </geometry>
    </collision>
    <collision group="other">
      <origin rpy="1.57079632679 0 0" xyz="0.011 0 0.003"/>
      <geometry>
        <cylinder length="0.023" radius="0.01"/>
      </geometry>
    </collision>
    <!--   end simple shape approximation of f0 -->
    <!-- begin visual shape approximation of f0 -->
    <visual>
      <origin rpy="0 0 0" xyz="0 0 0.003"/>
      <geometry>
        <cylinder length="0.023" radius="0.015"/>
      </geometry>
      <material name="right_sandia_hand_skin_suntan">
        <color rgba="0.7 0.4 0.2 1.0"/>
      </material>
    </visual>
    <visual>
      <origin rpy="1.57079632679 0 0" xyz="0.011 0 0.003"/>
      <geometry>
        <cylinder length="0.023" radius="0.01"/>
      </geometry>
      <material name="right_sandia_hand_skin_suntan">
        <color rgba="0.7 0.4 0.2 1.0"/>
      </material>
    </visual>
    <!--   end visual shape approximation of f0 -->
    <!-- begin collision mesh of f0 ->
      <collision group="default">
        <origin xyz="0 0 0" rpy="0 0 0"/>
        <geometry>
          <mesh filename="package://sandia_hand_description/meshes/f0.stl"/>
        </geometry>
      </collision>
      <!-   end collision mesh of f0 -->
    <!-- begin visual mesh of f0 ->
      <visual>
        <origin xyz="0 0 0" rpy="0 0 0"/>
        <geometry>
          <mesh filename="package://sandia_hand_description/meshes/f0.stl"/>
        </geometry>
        <material name="${side}_sandia_hand_skin_suntan">
          <color rgba="0.7 0.4 0.2 1.0"/>
        </material>
      </visual>
      <!-   end visual mesh of f0 -->
  </link>
  <link name="right_f3_1">
    <origin rpy="0 0 0" xyz="0 0 0"/>
    <inertial>
      <mass value="0.033"/>
      <!-- F2 -->
      <origin xyz="0 0 0"/>
      <!-- solid cylinder -->
      <inertia ixx="0.00000165" ixy="0" ixz="0" iyy="0.00001316975" iyz="0" izz="0.00001316975"/>
    </inertial>
    <!-- begin simple shape approximation of f1 -->
    <collision group="default">
      <origin rpy="0 1.57079632679 0" xyz="0.024 0 0"/>
      <geometry>
        <cylinder length="0.067" radius="0.01"/>
      </geometry>
    </collision>
    <!--   end simple shape approximation of f1 -->
    <!-- begin visual shape approximation of f1 -->
    <visual>
      <origin rpy="0 1.57079632679 0" xyz="0.024 0 0"/>
      <geometry>
        <cylinder length="0.067" radius="0.01"/>
      </geometry>
      <material name="right_sandia_hand_skin">
        <color rgba="0.835 0.655 0.345 1.0"/>
      </material>
    </visual>
    <!--   end visual shape approximation of f1 -->
    <!-- begin collision mesh of f1 ->
      <collision group="default">
        <origin xyz="0 0 0" rpy="0 0 0"/>
        <geometry>
          <mesh filename="package://sandia_hand_description/meshes/f1.stl"/>
        </geometry>
      </collision>
      <!-   end collision mesh of f1 -->
    <!-- begin visual mesh of f1 ->
      <visual>
        <origin xyz="0 0 0" rpy="0 0 0"/>
        <geometry>
          <mesh filename="package://sandia_hand_description/meshes/f1.stl"/>
        </geometry>
        <material name="${side}_sandia_hand_skin">
          <color rgba="0.835 0.655 0.345 1.0"/>
        </material>
      </visual>
      <!-   end visual mesh of f1 -->
  </link>
  <link name="right_f3_1_accel">
    <origin rpy="0 0 0" xyz="0 0 0"/>
    <inertial>
      <mass value="0.01"/>
      <origin xyz="0 0 0"/>
      <inertia ixx="0.000001" ixy="0" ixz="0" iyy="0.000001" iyz="0" izz="0.000001"/>
    </inertial>
  </link>
  <link name="right_f3_2">
    <origin rpy="0 0 0" xyz="0 0 0"/>
    <inertial>
      <mass value="0.033"/>
      <!-- F3 -->
      <origin xyz="0 0 0"/>
      <!-- solid cylinder -->
      <inertia ixx="0.0000013365" ixy="0" ixz="0" iyy="0.000009603" iyz="0" izz="0.000009603"/>
    </inertial>
    <!-- begin simple shape approximation of f2 -->
    <collision group="default">
      <origin rpy="0 1.57079632679 0" xyz="0.024 0 0"/>
      <geometry>
        <cylinder length="0.057" radius="0.009"/>
      </geometry>
    </collision>
    <collision group="other">
      <origin rpy="0 0 0" xyz="0.052 0 0"/>
      <geometry>
        <sphere radius="0.009"/>
      </geometry>
    </collision>
    <!--   end simple shape approximation of f2 -->
    <!-- begin visual shape approximation of f2 -->
    <visual>
      <origin rpy="0 1.57079632679 0" xyz="0.024 0 0"/>
      <geometry>
        <cylinder length="0.057" radius="0.009"/>
      </geometry>
      <material name="right_sandia_hand_skin_suntan">
        <color rgba="0.8 0.6 0.3 1.0"/>
      </material>
    </visual>
    <visual>
      <origin rpy="0 0 0" xyz="0.052 0 0"/>
      <geometry>
        <sphere radius="0.009"/>
      </geometry>
      <material name="right_sandia_hand_skin_suntan">
        <color rgba="0.8 0.6 0.3 1.0"/>
      </material>
    </visual>
    <!-- begin collision mesh of f2    ->
      <collision group="default">
        <origin xyz="0 0 0" rpy="0 0 0"/>
        <geometry>
          <mesh filename="package://sandia_hand_description/meshes/f2.stl"/>
        </geometry>
      </collision>
      <!-   end collision mesh of f2 -->
    <!-- begin visual mesh of f2    ->
      <visual>
        <origin xyz="0 0 0" rpy="0 0 0"/>
        <geometry>
          <mesh filename="package://sandia_hand_description/meshes/f2.stl"/>
        </geometry>
        <material name="${side}_sandia_hand_skin_suntan">
          <color rgba="0.8 0.6 0.3 1.0"/>
        </material>
      </visual>
      <!-   end visual mesh of f2 -->
  </link>
  <link name="right_f3_2_accel">
    <origin rpy="0 0 0" xyz="0 0 0"/>
    <inertial>
      <mass value="0.01"/>
      <origin xyz="0 0 0"/>
      <inertia ixx="0.000001" ixy="0" ixz="0" iyy="0.000001" iyz="0" izz="0.000001"/>
    </inertial>
  </link>
  <joint name="right_f3_base" type="fixed">
    <parent link="right_palm"/>
    <child link="right_f3_base"/>
    <origin rpy="0 -1.57079632679 -2.3562" xyz="0.03995 -0.04383 0.014"/>
  </joint>
  <joint name="right_f3_j0" type="revolute">
    <axis xyz="0 0 1"/>
    <parent link="right_f3_base"/>
    <child link="right_f3_0"/>
    <limit effort="11" lower="-1.57079632679" upper="1.57079632679" velocity="-1"/>
    <safety_controller k_position="1000.0" k_velocity="1000.0" soft_lower_limit="-11.57079" soft_upper_limit="11.57079"/>
    <dynamics damping="1.0"/>
    <origin rpy="0 0 0" xyz="0 0 0"/>
  </joint>
  <joint name="right_f3_j1" type="revolute">
    <axis xyz="0 0 1"/>
    <parent link="right_f3_0"/>
    <child link="right_f3_1"/>
    <limit effort="28" lower="-1.57079632679" upper="1.57079632679" velocity="-1"/>
    <safety_controller k_position="1000.0" k_velocity="1000.0" soft_lower_limit="-11.57079" soft_upper_limit="11.57079"/>
    <dynamics damping="1.0"/>
    <origin rpy="1.57079632679 0 0" xyz="0.028 0 0"/>
  </joint>
  <joint name="right_f3_j2" type="revolute">
    <axis xyz="0 0 1"/>
    <parent link="right_f3_1"/>
    <child link="right_f3_2"/>
    <origin rpy="0 0 0" xyz="0.05 0 0"/>
    <safety_controller k_position="1000.0" k_velocity="1000.0" soft_lower_limit="-11.57079" soft_upper_limit="11.57079"/>
    <dynamics damping="1.0"/>
    <limit effort="28" lower="-1.57079632679" upper="1.57079632679" velocity="-1"/>
  </joint>
  <joint name="right_f3_fixed_accel" type="fixed">
    <parent link="right_f3_base"/>
    <child link="right_f3_fixed_accel"/>
    <origin rpy="0 0 0" xyz="-0.05 0 0"/>
  </joint>
  <joint name="right_f3_1_accel" type="fixed">
    <parent link="right_f3_1"/>
    <child link="right_f3_1_accel"/>
    <origin rpy="-1.57079632679 0 0" xyz="0.03 0 0"/>
  </joint>
  <joint name="right_f3_2_accel" type="fixed">
    <parent link="right_f3_2"/>
    <child link="right_f3_2_accel"/>
    <origin rpy="-1.57079632679 0 0" xyz="0.04 0 0"/>
  </joint>
  <transmission name="right_f3_j0" type="pr2_mechanism_model/SimpleTransmission">
    <joint name="right_f3_j0"/>
    <actuator name="right_f3_j0_motor"/>
    <mechanicalReduction>1</mechanicalReduction>
  </transmission>
  <transmission name="right_f3_j1" type="pr2_mechanism_model/SimpleTransmission">
    <joint name="right_f3_j1"/>
    <actuator name="right_f3_j1_motor"/>
    <mechanicalReduction>1</mechanicalReduction>
  </transmission>
  <transmission name="right_f3_j2" type="pr2_mechanism_model/SimpleTransmission">
    <joint name="right_f3_j2"/>
    <actuator name="right_f3_j2_motor"/>
    <mechanicalReduction>1</mechanicalReduction>
  </transmission>
  <gazebo reference="right_f3_base">
    <mu1>0.9</mu1>
    <mu2>0.9</mu2>
    <kp>1000000.0</kp>
    <kd>1.0</kd>
    <maxVel>0.1</maxVel>
    <minDepth>0.001</minDepth>
    <material>Gazebo/FlatBlack</material>
  </gazebo>
  <gazebo reference="right_f3_0">
    <mu1>0.9</mu1>
    <mu2>0.9</mu2>
    <kp>1000000.0</kp>
    <kd>1.0</kd>
    <maxVel>0.1</maxVel>
    <minDepth>0.003</minDepth>
    <maxContacts>1</maxContacts>
    <material>Gazebo/FlatBlack</material>
  </gazebo>
  <gazebo reference="right_f3_1">
    <mu1>0.9</mu1>
    <mu2>0.9</mu2>
    <kp>1000000.0</kp>
    <kd>1.0</kd>
    <maxVel>0.1</maxVel>
    <minDepth>0.003</minDepth>
    <maxContacts>1</maxContacts>
    <material>Gazebo/FlatBlack</material>
  </gazebo>
  <gazebo reference="right_f3_2">
    <mu1>0.9</mu1>
    <mu2>0.9</mu2>
    <kp>1000000.0</kp>
    <kd>1.0</kd>
    <maxVel>0.1</maxVel>
    <minDepth>0.003</minDepth>
    <maxContacts>1</maxContacts>
    <material>Gazebo/FlatBlack</material>
  </gazebo>
  <gazebo reference="right_f3_j0">
    <cfmDamping>1</cfmDamping>
  </gazebo>
  <gazebo reference="right_f3_j1">
    <cfmDamping>1</cfmDamping>
  </gazebo>
  <gazebo reference="right_f3_j2">
    <cfmDamping>1</cfmDamping>
  </gazebo>
  <gazebo reference="right_palm">
    <mu1>0.9</mu1>
    <mu2>0.9</mu2>
    <material>Gazebo/FlatBlack</material>
  </gazebo>
  <joint name="right_palm_left_camera_frame_joint" type="fixed">
    <origin rpy="0.6708 -1.57079632679 3.14159265359" xyz="0.0683774130138 0.0138342911048 0.025"/>
    <parent link="right_palm"/>
    <child link="right_palm_left_camera_frame"/>
  </joint>
  <link name="right_palm_left_camera_frame">
    <inertial>
      <mass value="0.01"/>
      <origin xyz="0 0 0"/>
      <inertia ixx="0.0001" ixy="0.0" ixz="0.0" iyy="0.0001" iyz="0.0" izz="0.0001"/>
    </inertial>
    <visual group="default">
      <origin rpy="0 0 0" xyz="0 0 0"/>
      <geometry>
        <box size="0.003 0.010 0.007"/>
      </geometry>
    </visual>
  </link>
  <joint name="right_palm_left_camera_optical_frame_joint" type="fixed">
    <origin rpy="-1.57079632679 0.0 -1.57079632679" xyz="0 0 0"/>
    <parent link="right_palm_left_camera_frame"/>
    <child link="right_palm_left_camera_optical_frame"/>
  </joint>
  <link name="right_palm_left_camera_optical_frame"/>
  <gazebo reference="right_palm_left_camera_frame">
    <sensor name="right_palm_stereo_camera" type="multicamera">
      <update_rate>30.0</update_rate>
      <camera name="left">
        <horizontal_fov>1.25663706144</horizontal_fov>
        <image>
          <width>752</width>
          <height>480</height>
          <format>L8</format>
        </image>
        <clip>
          <near>0.02</near>
          <far>100</far>
        </clip>
        <noise>
          <type>gaussian</type>
          <mean>0.0</mean>
          <stddev>0.007</stddev>
        </noise>
      </camera>
      <camera name="right">
        <pose>0 -0.04 0  0 0 0</pose>
        <horizontal_fov>1.25663706144</horizontal_fov>
        <image>
          <width>752</width>
          <height>480</height>
          <format>L8</format>
        </image>
        <clip>
          <near>0.02</near>
          <far>100</far>
        </clip>
        <noise>
          <type>gaussian</type>
          <mean>0.0</mean>
          <stddev>0.007</stddev>
        </noise>
      </camera>
      <plugin filename="libgazebo_ros_multicamera.so" name="stereo_camera_controller">
        <alwaysOn>true</alwaysOn>
        <updateRate>0.0</updateRate>
        <cameraName>sandia_hands/base/camera</cameraName>
        <imageTopicName>image_raw</imageTopicName>
        <cameraInfoTopicName>camera_info</cameraInfoTopicName>
        <frameName>right_palm_left_camera_optical_frame</frameName>
        <hackBaseline>0.04</hackBaseline>
        <distortionK1>0.0</distortionK1>
        <distortionK2>0.0</distortionK2>
        <distortionK3>0.0</distortionK3>
        <distortionT1>0.0</distortionT1>
        <distortionT2>0.0</distortionT2>
      </plugin>
    </sensor>
  </gazebo>
  <joint name="right_palm_right_camera_frame_joint" type="fixed">
    <origin rpy="0.6708 -1.57079632679 3.14159265359" xyz="0.0435128991906 0.0451672761576 0.025"/>
    <parent link="right_palm"/>
    <child link="right_palm_right_camera_frame"/>
  </joint>
  <link name="right_palm_right_camera_frame">
    <inertial>
      <mass value="0.01"/>
      <origin xyz="0 0 0"/>
      <inertia ixx="0.0001" ixy="0.0" ixz="0.0" iyy="0.0001" iyz="0.0" izz="0.0001"/>
    </inertial>
    <visual group="default">
      <origin rpy="0 0 0" xyz="0 0 0"/>
      <geometry>
        <box size="0.003 0.010 0.007"/>
      </geometry>
    </visual>
  </link>
  <joint name="right_palm_right_camera_optical_frame_joint" type="fixed">
    <origin rpy="-1.57079632679 0.0 -1.57079632679" xyz="0 0 0"/>
    <parent link="right_palm_right_camera_frame"/>
    <child link="right_palm_right_camera_optical_frame"/>
  </joint>
  <link name="right_palm_right_camera_optical_frame"/>
  <gazebo>
    <plugin filename="libContactModelPlugin.so" name="sandia_contact_plugin">
      <contact>
        <collision>base::base_collision_right_palm</collision>
        <collision>base::base_collision_right_palm_1</collision>
        <collision>base::base_collision_right_palm_3</collision>
        <collision>base::base_collision_right_palm_4</collision>
        <collision>base::base_collision_right_palm_5</collision>
        <collision>right_f0_1::right_f0_1_collision</collision>
        <collision>right_f0_2::right_f0_2_collision</collision>
        <collision>right_f1_1::right_f1_1_collision</collision>
        <collision>right_f1_2::right_f1_2_collision</collision>
        <collision>right_f2_1::right_f2_1_collision</collision>
        <collision>right_f2_2::right_f2_2_collision</collision>
        <collision>right_f3_1::right_f3_1_collision</collision>
        <collision>right_f3_2::right_f3_2_collision</collision>
      </contact>
    </plugin>
  </gazebo>
  <gazebo reference="base">
    <sensor name="imu_sensor" type="imu">
      <always_on>1</always_on>
      <update_rate>1000.0</update_rate>
      <imu>
        <noise>
          <type>gaussian</type>
          <rate>
            <mean>0.0</mean>
            <stddev>2e-4</stddev>
            <bias_mean>0.0000075</bias_mean>
            <bias_stddev>0.0000008</bias_stddev>
          </rate>
          <accel>
            <mean>0.0</mean>
            <stddev>1.7e-2</stddev>
            <bias_mean>0.1</bias_mean>
            <bias_stddev>0.001</bias_stddev>
          </accel>
        </noise>
      </imu>
    </sensor>
  </gazebo>
</robot>
